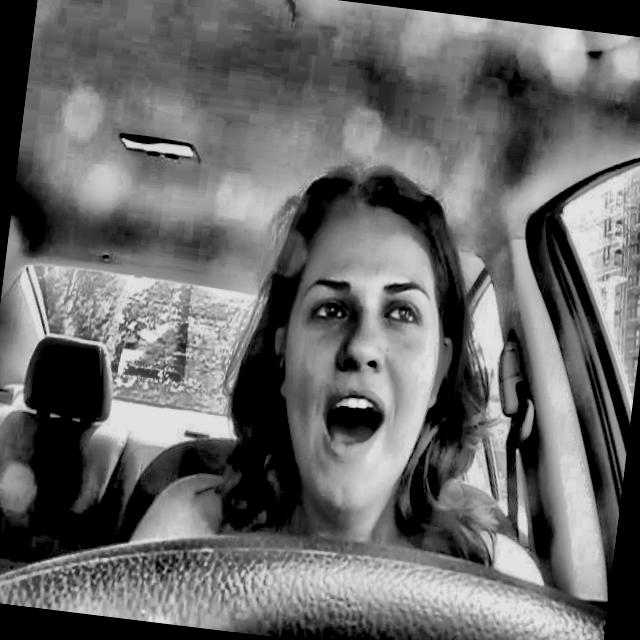open_eyes: (302, 293, 357, 335), (376, 297, 426, 338)
open_mouth: (314, 379, 394, 465)
